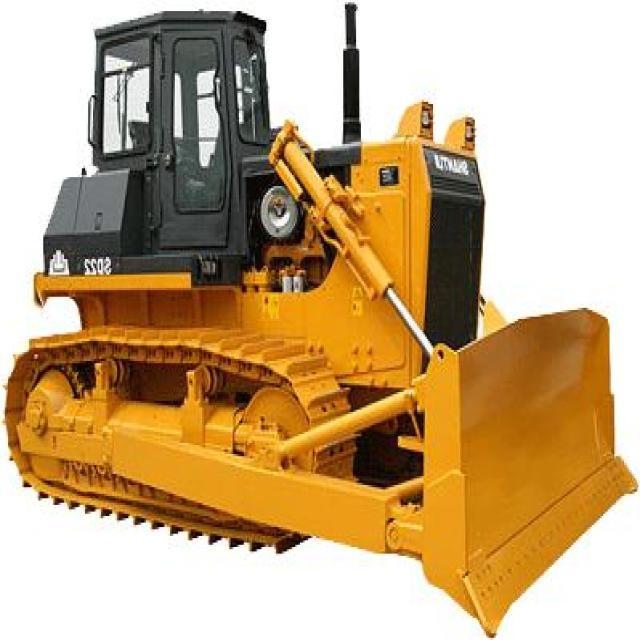buldozerpayloadergrader: (9, 11, 638, 631)
